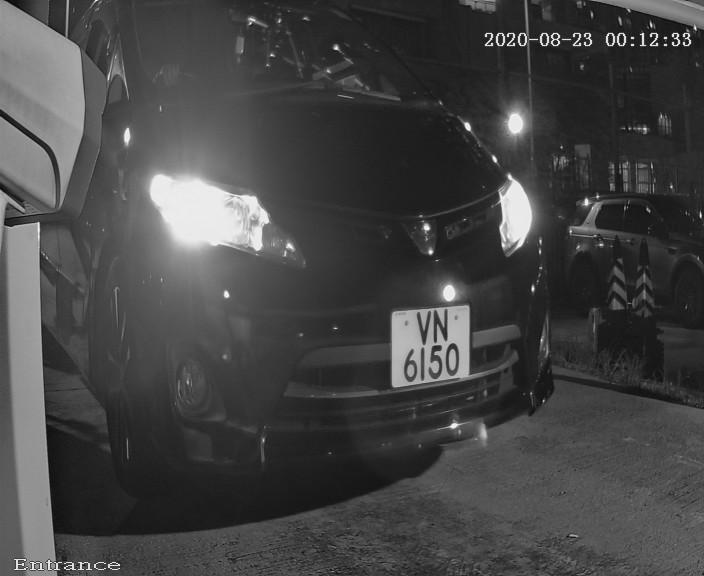Car: (13, 13, 610, 523)
License Plate: (363, 277, 486, 422)
